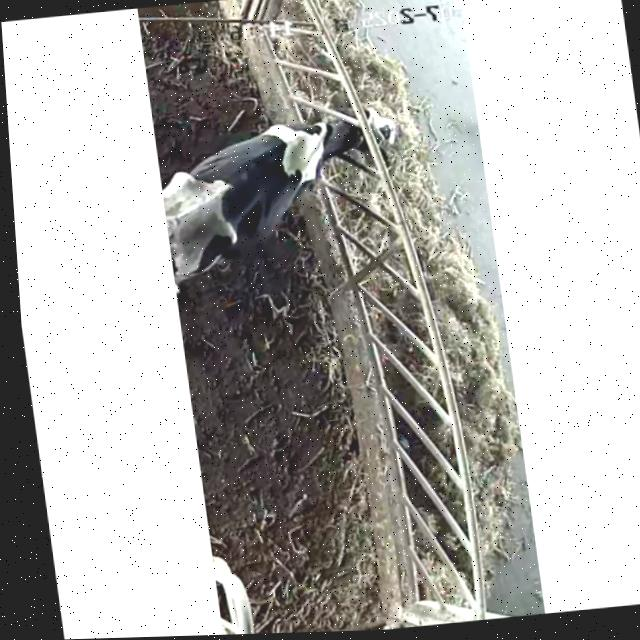eat: (219, 53, 448, 233)
